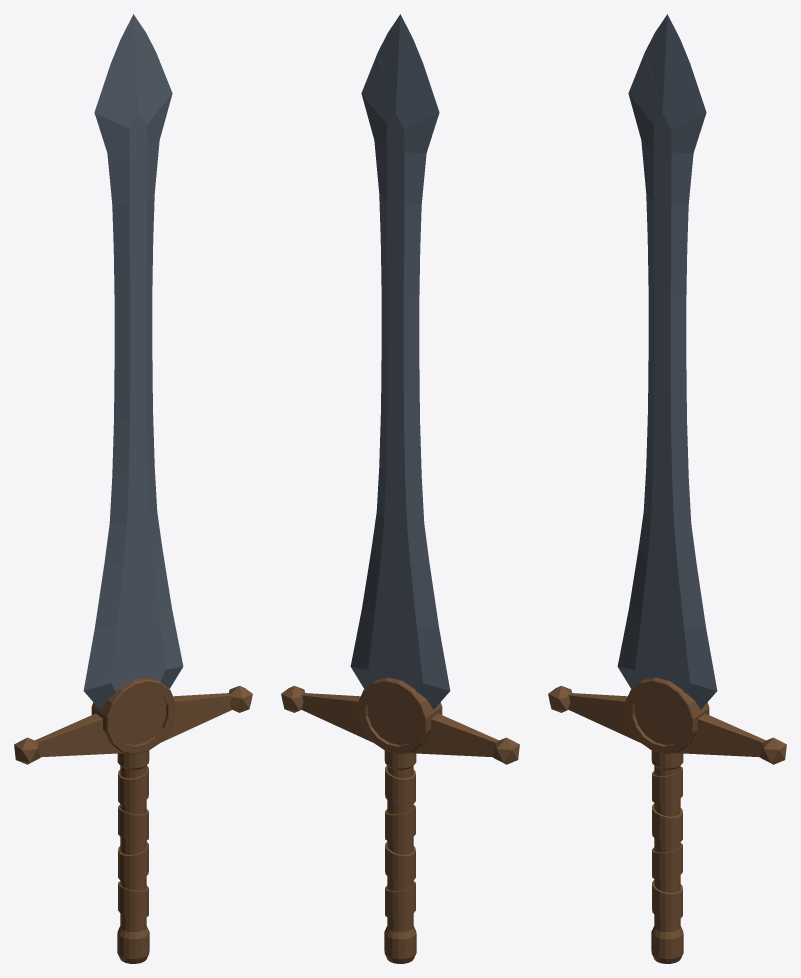
File: sword.glb
The picture shows the model from 3 angles, left to right: view 1: azimuth 30°, elevation 25°; view 2: azimuth 150°, elevation 25°; view 3: azimuth 330°, elevation 25°; orthographic projection.
Visible parts, largest first — view 1: Blade; view 2: Blade; view 3: Blade.
Part boxes in pixels (box(x1,y1,x2,y2)): Blade: box(14, 14, 252, 963); Blade: box(281, 14, 519, 963); Blade: box(548, 14, 786, 963).
Bounding box in the file's own units: 1.25 × 4.78 × 0.1509.
